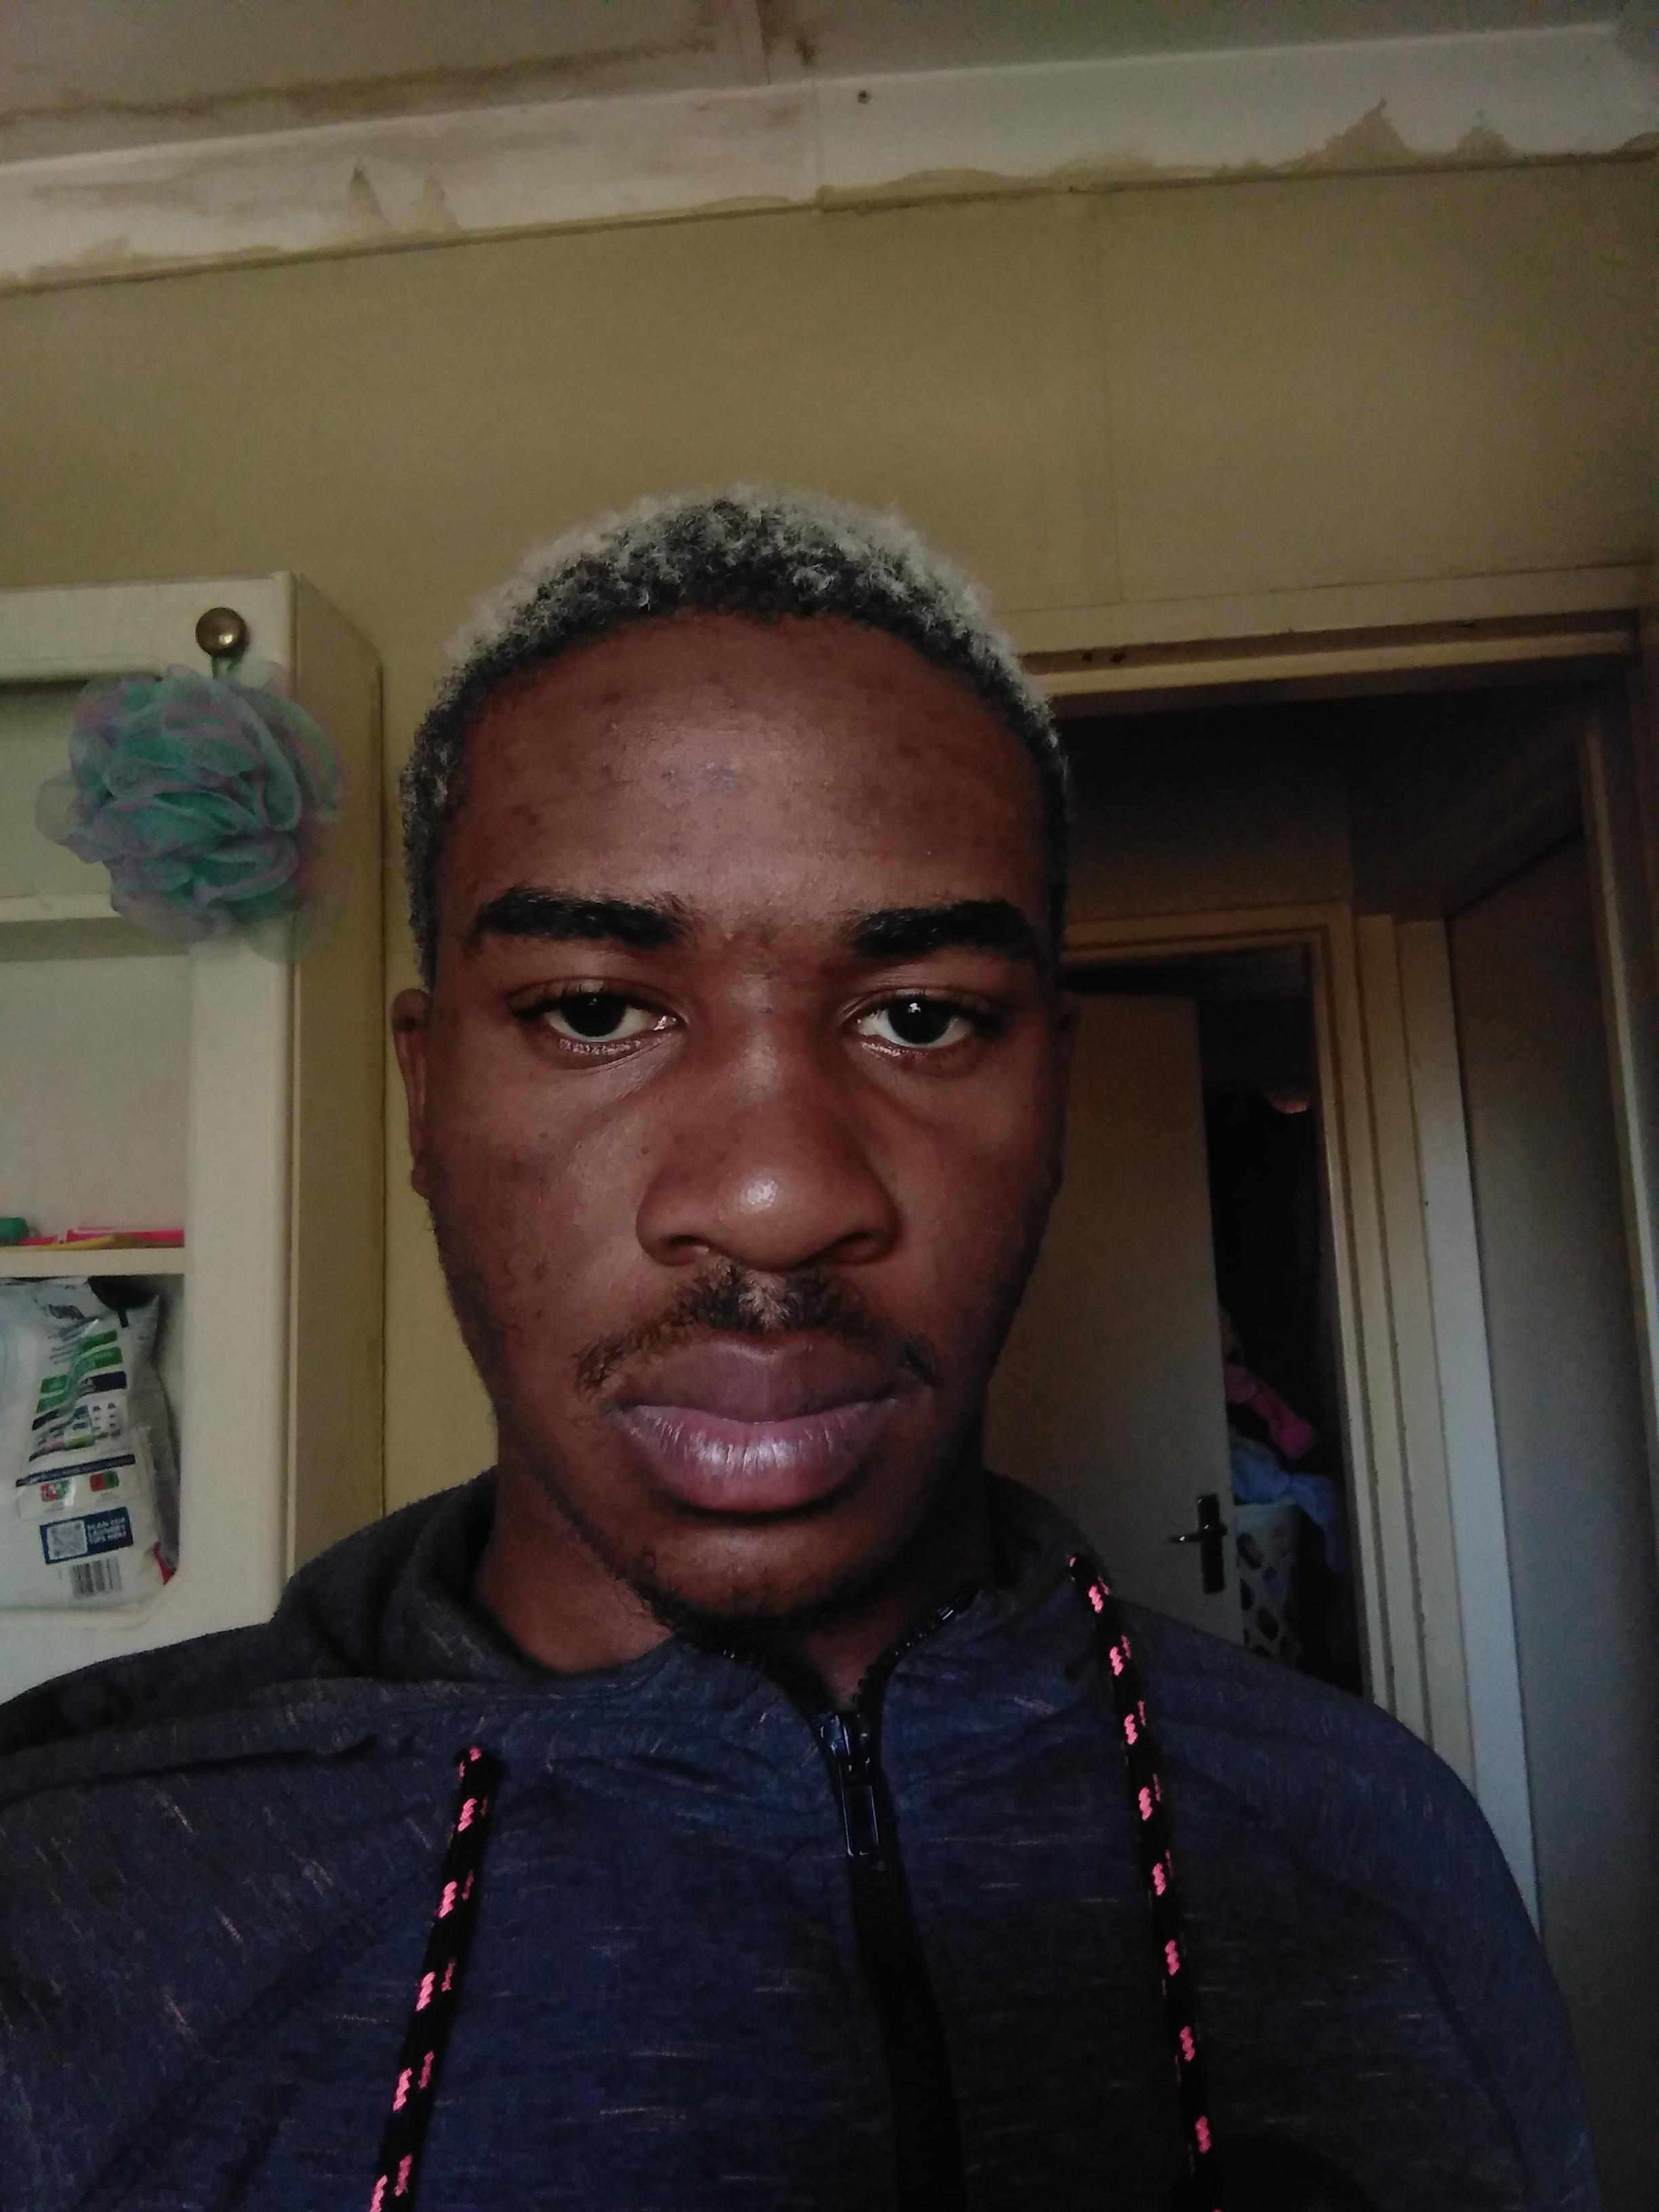Acne: (842, 676, 906, 697), (505, 801, 545, 834), (713, 683, 746, 719), (523, 1251, 554, 1289), (929, 1252, 955, 1291), (598, 683, 627, 711), (716, 921, 742, 948), (653, 765, 681, 789), (662, 1123, 688, 1148), (755, 995, 782, 1017), (587, 756, 619, 775), (455, 1129, 477, 1155), (673, 1165, 695, 1191), (601, 712, 629, 733), (730, 1012, 751, 1040), (507, 1146, 528, 1172), (1004, 803, 1021, 829), (901, 740, 920, 759), (701, 667, 723, 683), (500, 1256, 514, 1280), (791, 826, 807, 843), (924, 707, 939, 723)
Englarged-Pores: (544, 1127, 599, 1207)
Wrinkles: (795, 777, 945, 805), (533, 775, 645, 806), (525, 834, 620, 859), (823, 840, 922, 860)
